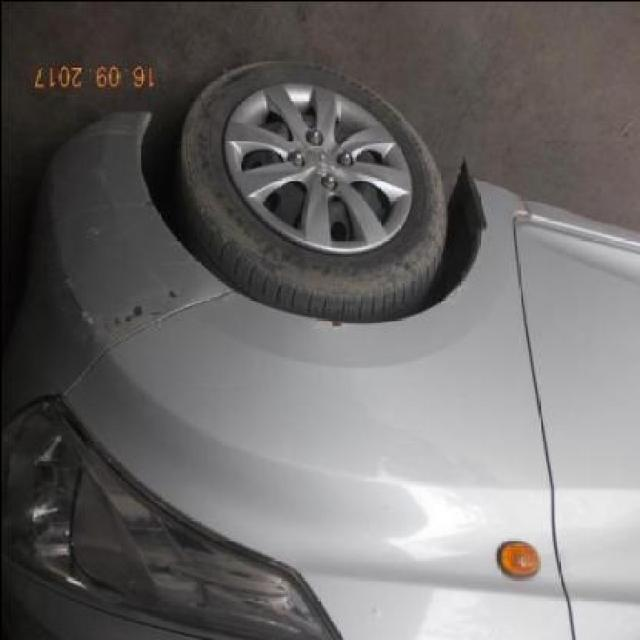damage: (57, 262, 140, 332), (305, 315, 343, 328), (162, 284, 184, 303), (515, 193, 531, 218), (145, 307, 163, 318)
